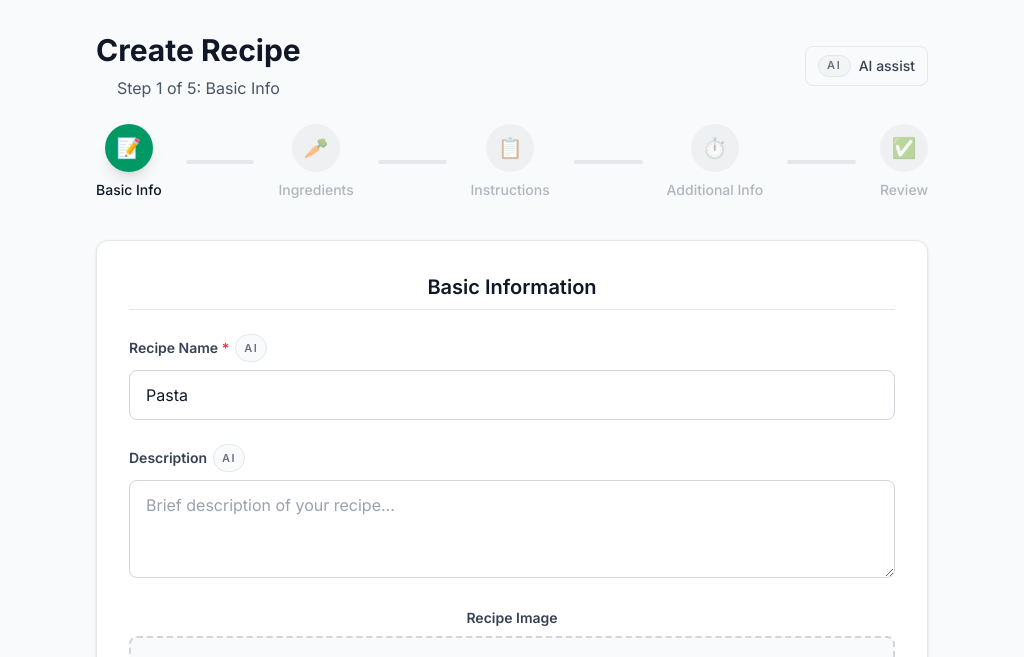
Scenario: RecipeFormLayout — AI undo affordance (issue #42) › shows undo button in header after a suggestion is applied
Click the button "AI AI assist". click: (867, 66)
box: [805,46,928,86]
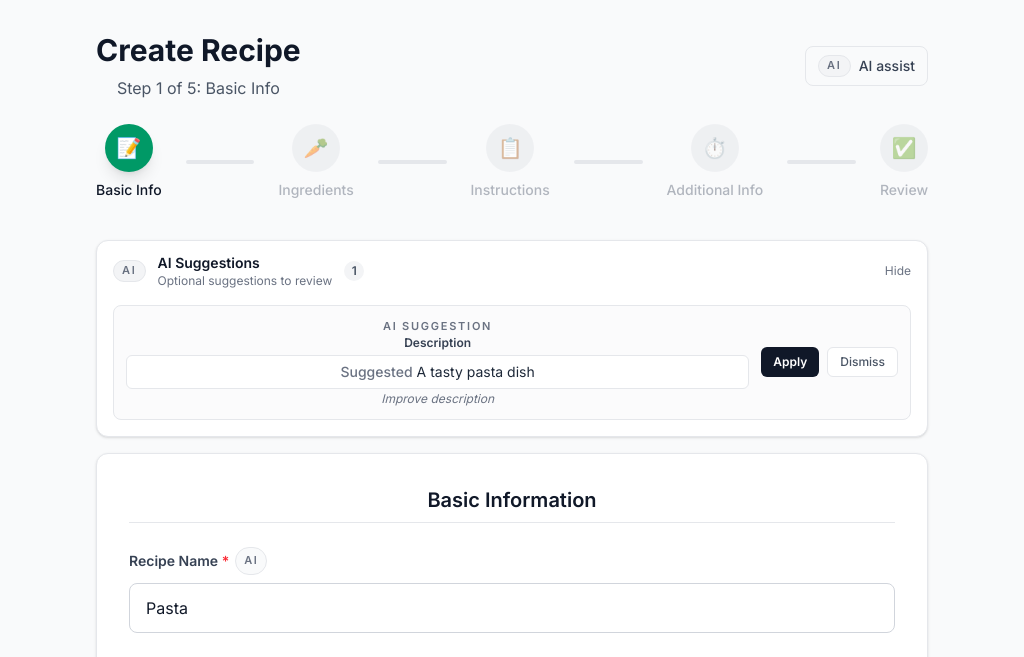
Expected: the button with aria-label "Apply AI suggestion for Description" is shown
Click the button with aria-label "Apply AI suggestion for Description". click: (790, 362)
box: [761,347,819,377]
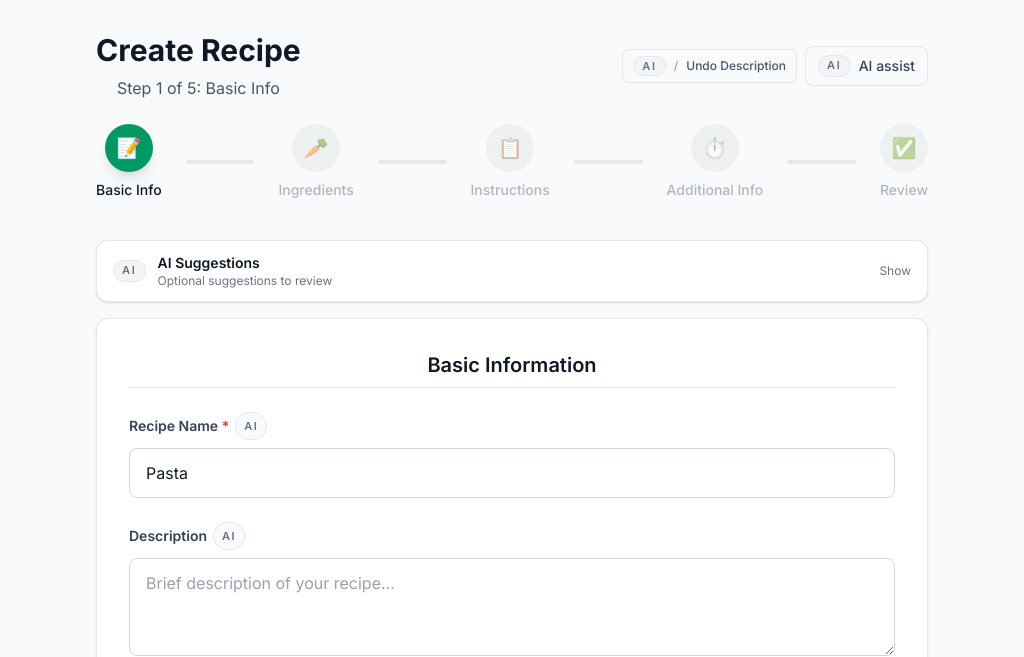
Expected: the button with aria-label "Undo: Description" is shown, [622,49,797,83]
